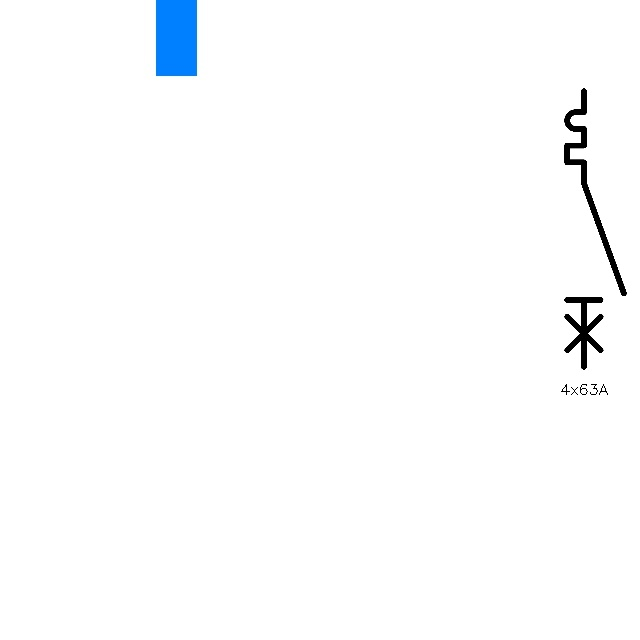interruptor_termomagnetico: (560, 84, 631, 374)
